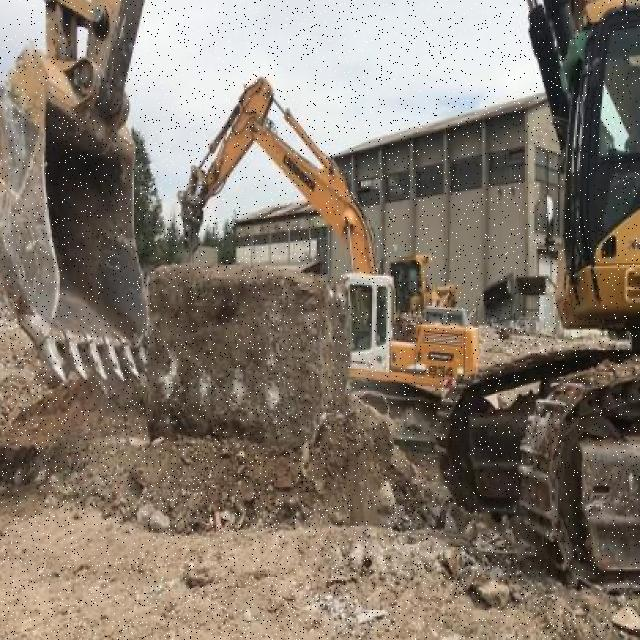Excavator: (435, 0, 640, 582), (174, 80, 480, 436)
